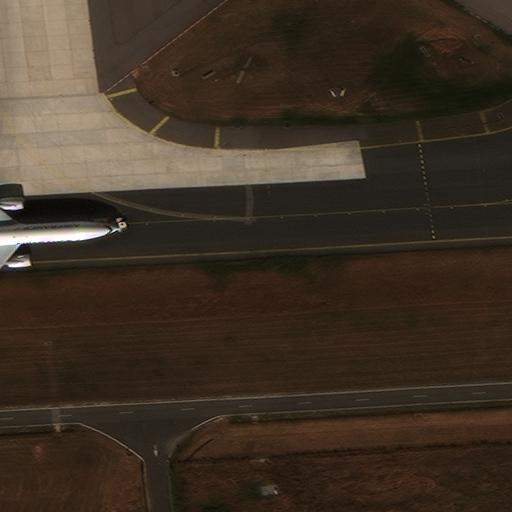Large Civil Transport: (0, 182, 117, 298)
